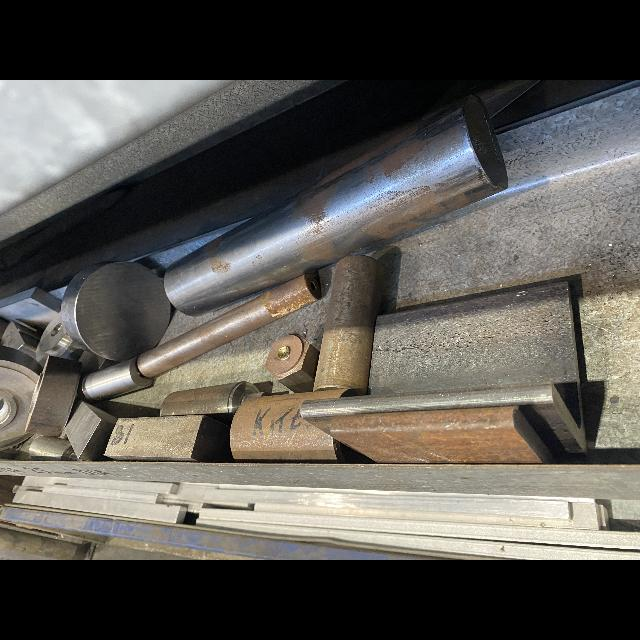Ferrous Metal: (163, 93, 508, 318), (300, 281, 586, 458), (138, 274, 320, 377), (329, 406, 554, 463), (61, 262, 172, 362), (230, 388, 363, 464), (313, 255, 384, 393), (105, 414, 230, 463), (160, 381, 271, 425), (25, 355, 83, 436), (265, 331, 320, 393), (82, 356, 152, 403), (29, 435, 84, 461)
Stainless Steel: (36, 311, 116, 376), (0, 346, 43, 451), (64, 399, 117, 462), (0, 320, 42, 360)
